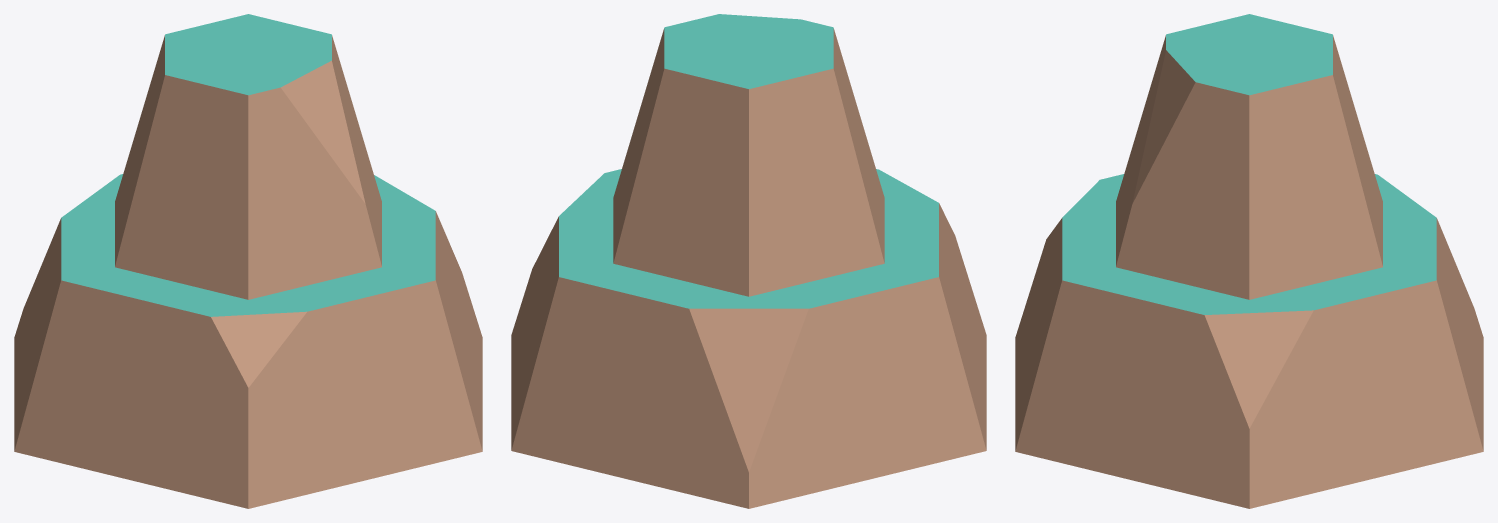
Rendered from rock_smallF.glb.
3 views of the same model, side by side, from view 1: azimuth 30°, elevation 25°; view 2: azimuth 150°, elevation 25°; view 3: azimuth 270°, elevation 25° (orthographic).
Visible parts, largest first — view 1: rock_smallF; view 2: rock_smallF; view 3: rock_smallF.
Boxes of the visible parts, x1=… form: rock_smallF: x1=14, y1=14, x2=482, y2=508; rock_smallF: x1=511, y1=14, x2=986, y2=508; rock_smallF: x1=1015, y1=14, x2=1483, y2=508.
Bounding box in the file's own units: 0.3536 × 0.2453 × 0.3062.
